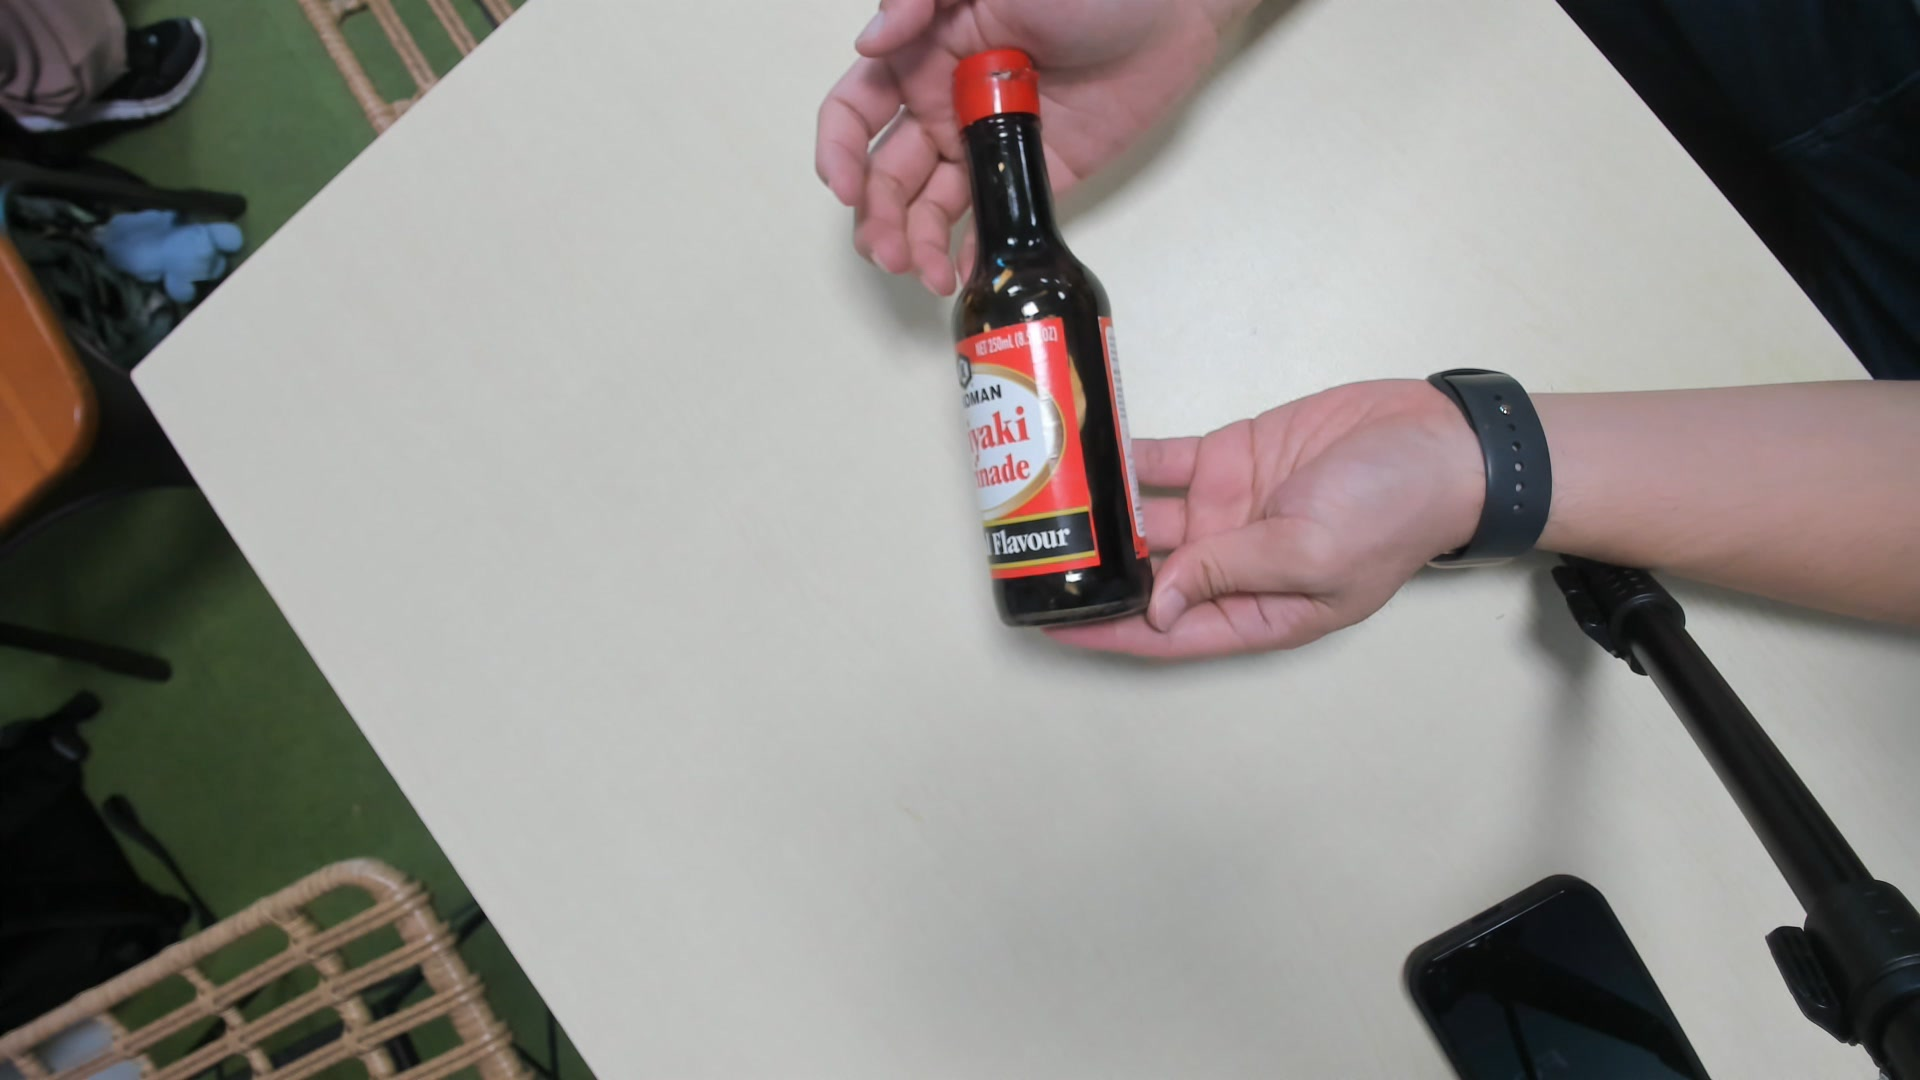OtherSauceDressing_200-299g_NonHalal_NonHealthy: (947, 50, 1159, 638)
